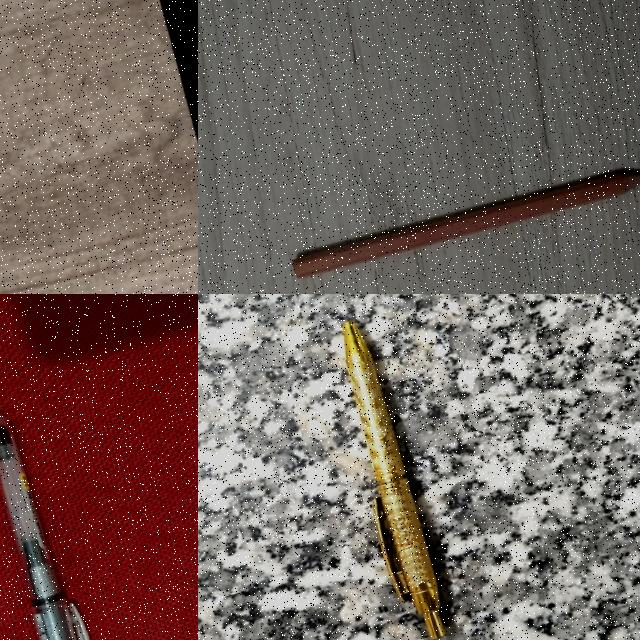pen: (0, 413, 89, 640)
pencil: (293, 173, 639, 277)
signature pen: (343, 321, 445, 638)
